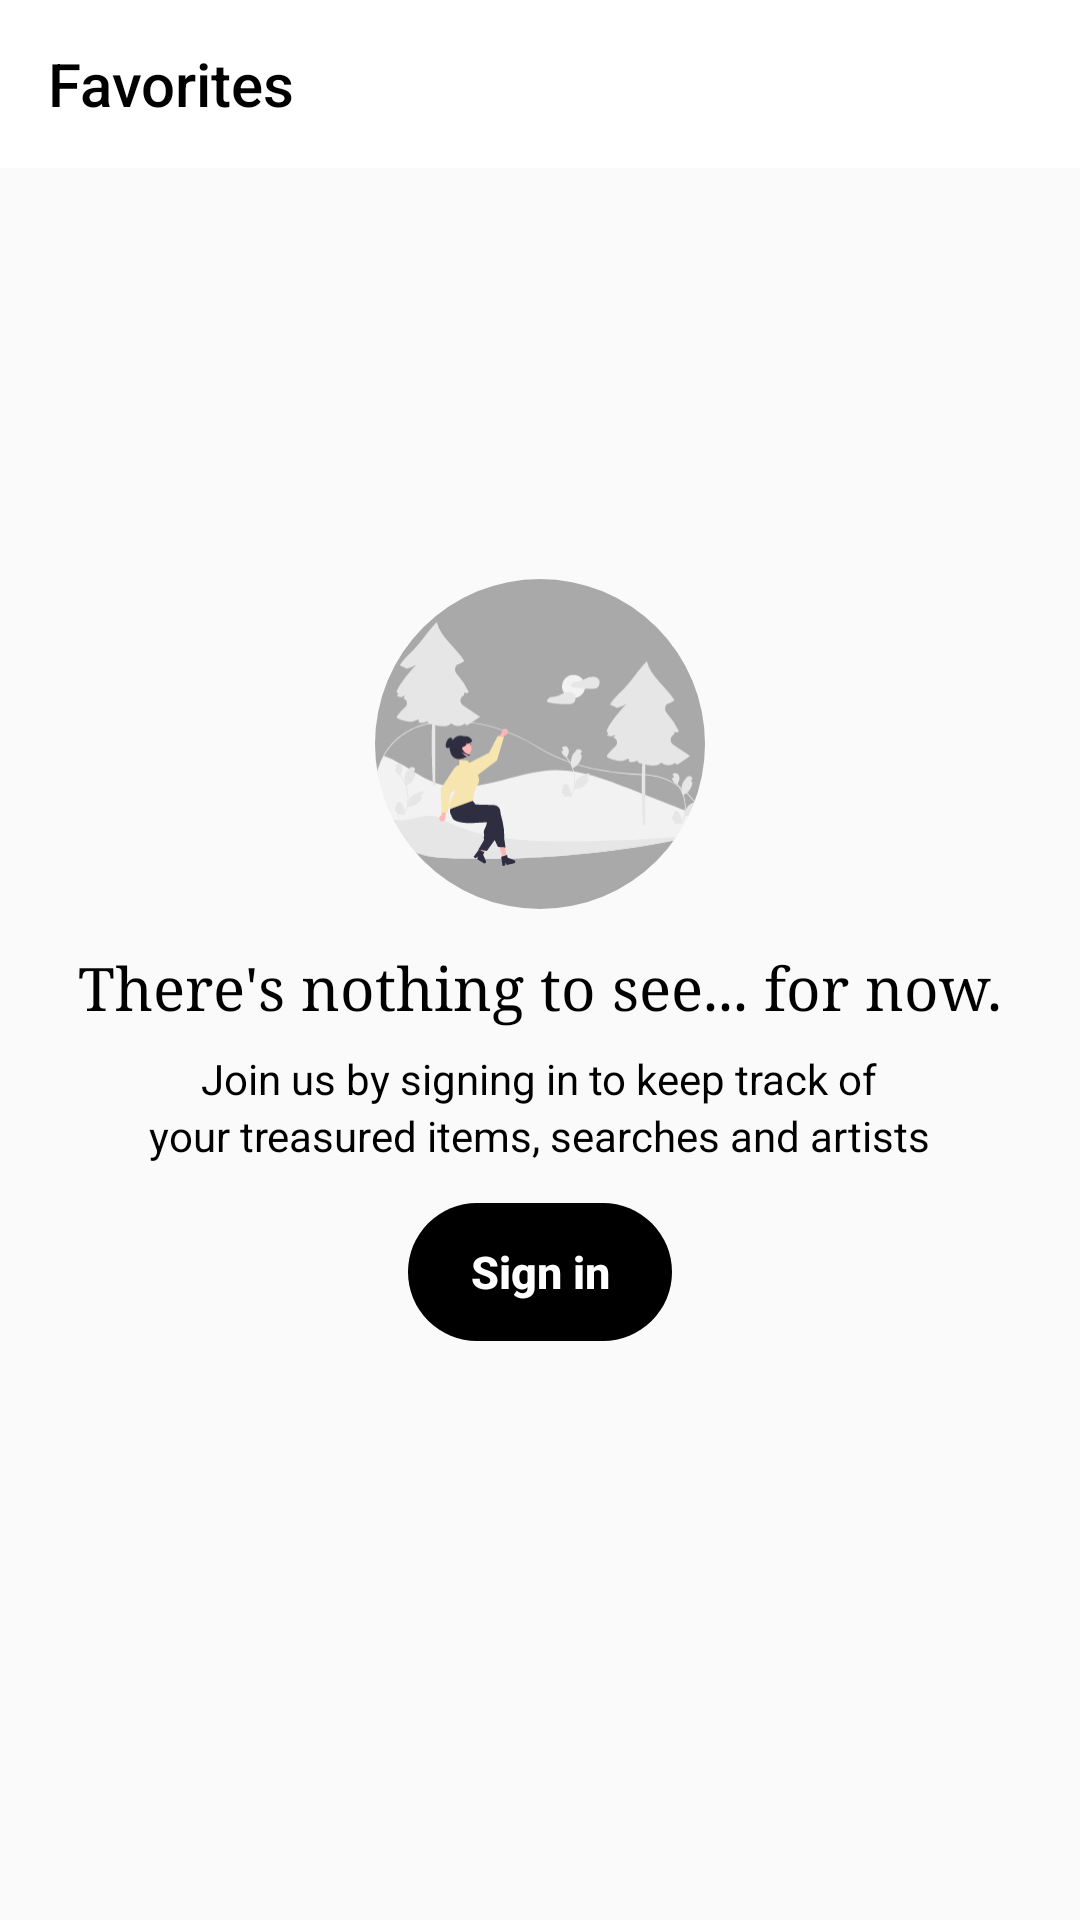

Named icons in this screenshot (1080 x 1920) and their centers, (x=x, y=y):
favorites art: (x=540, y=744)
